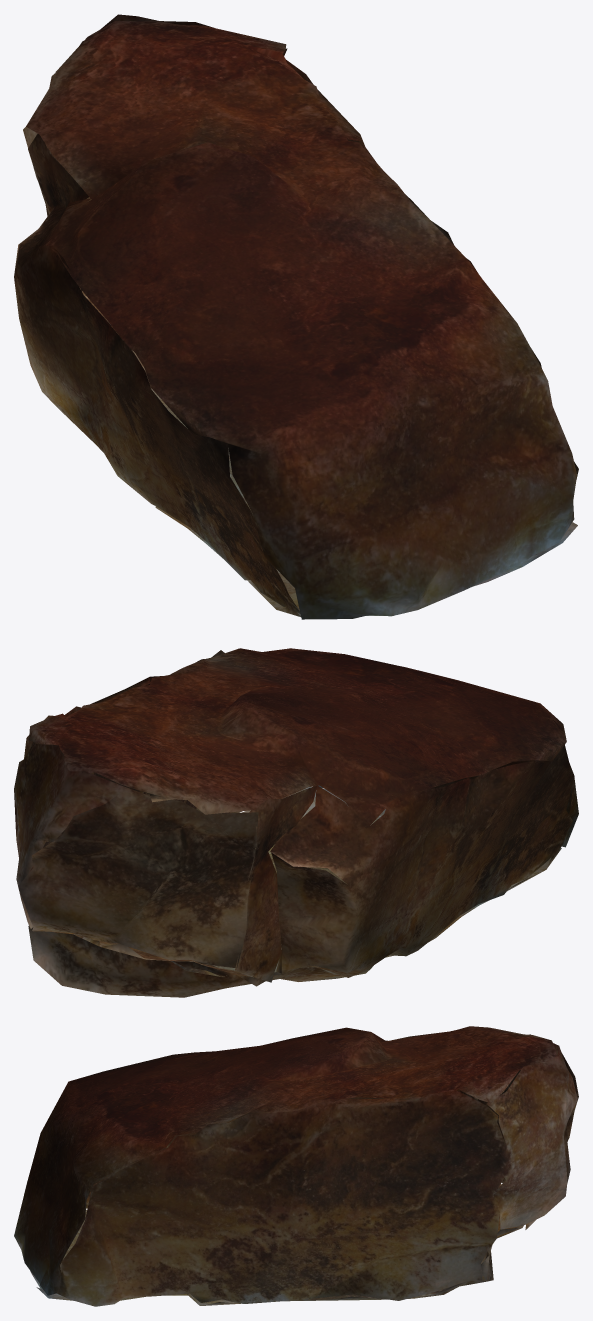
Rendered from rock_07.glb.
3 renders of one model, top to bottom at view 1: azimuth 30°, elevation 25°; view 2: azimuth 150°, elevation 25°; view 3: azimuth 270°, elevation 25°, orthographic. The views are drawn at different scales.
Parts seen in each view (by area): view 1: rock_07; view 2: rock_07; view 3: rock_07.
Part boxes in pixels (bbox=[...]): rock_07: bbox=[14, 14, 578, 619]; rock_07: bbox=[14, 648, 578, 997]; rock_07: bbox=[14, 1026, 578, 1306].
Bounding box in the file's own units: 0.5278 × 0.4455 × 1.
Materials: 1 (1 with a texture image).
